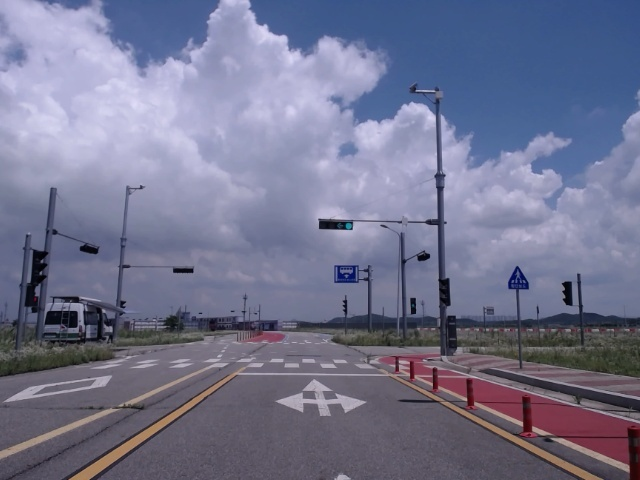all_green_4: (322, 218, 355, 230)
